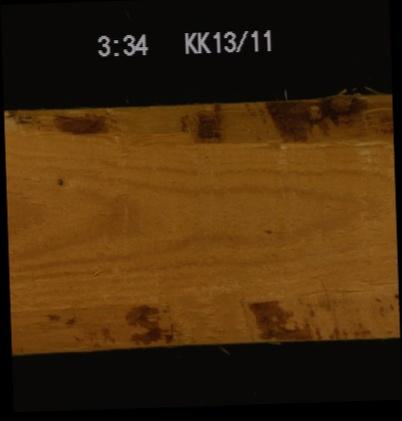small_knot: (54, 174, 63, 187)
wave: (10, 289, 397, 346), (3, 101, 391, 151)
